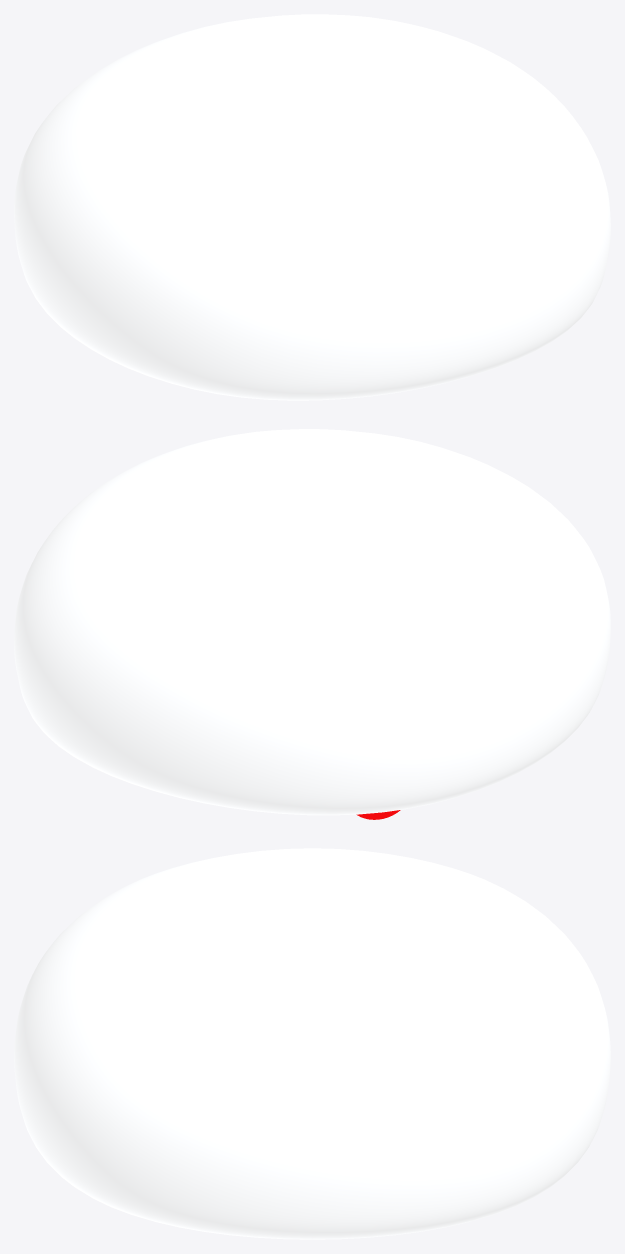
The picture shows the model from 3 angles, top to bottom: view 1: azimuth 30°, elevation 25°; view 2: azimuth 150°, elevation 25°; view 3: azimuth 270°, elevation 25°; orthographic projection. The views are drawn at different scales.
Visible parts, largest first — view 1: Curve.001_BG_0; view 2: Curve.001_BG_0; view 3: Curve.001_BG_0.
Part boxes in pixels (bbox=[...]): Curve.001_BG_0: bbox=[14, 14, 610, 400]; Curve.001_BG_0: bbox=[14, 429, 610, 815]; Curve.001_BG_0: bbox=[14, 848, 610, 1239].
Size of the model in its own units: 9025 by 3961 by 9025.
Materials: 16 (16 with a texture image).
